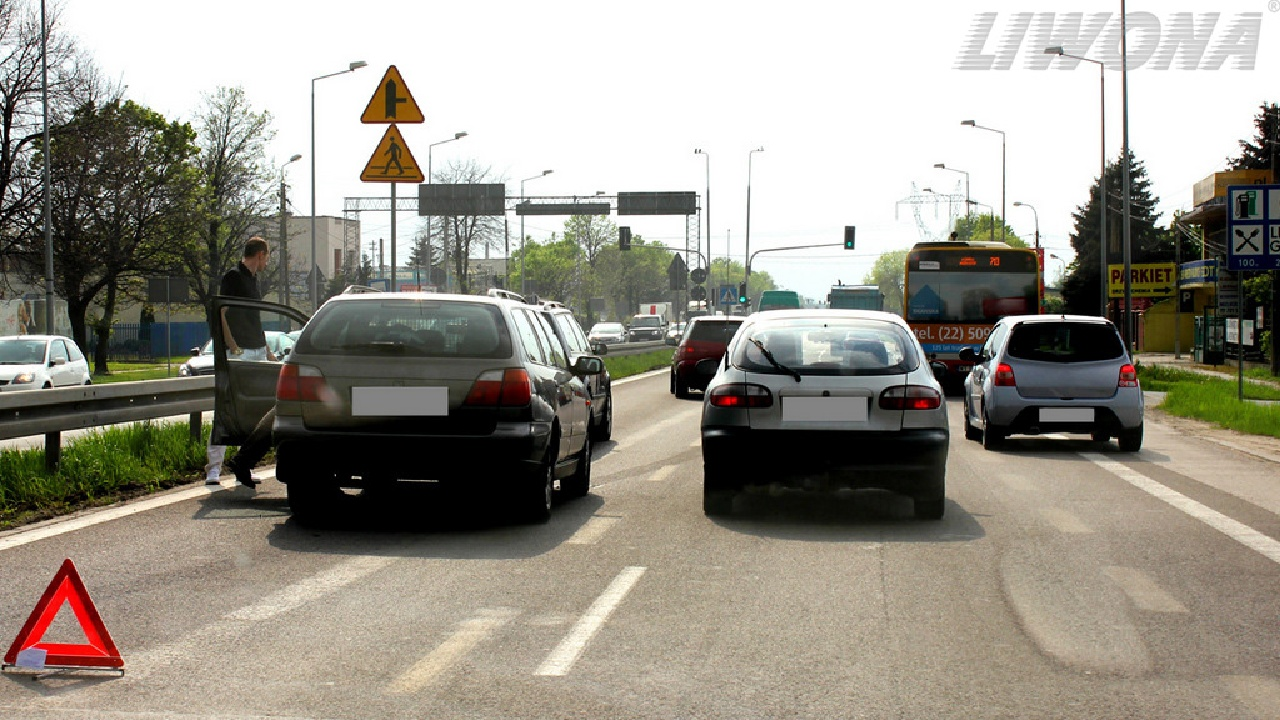A16: (360, 123, 424, 184)
A6b: (360, 65, 426, 122)
